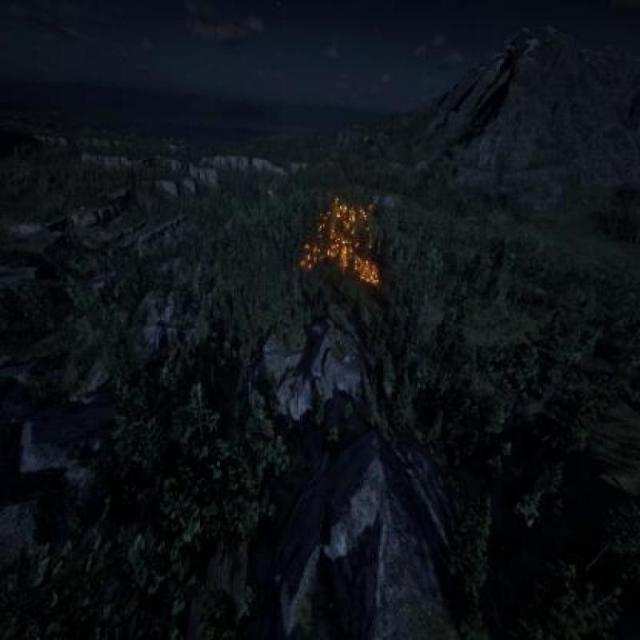Fire: (300, 198, 383, 282)
